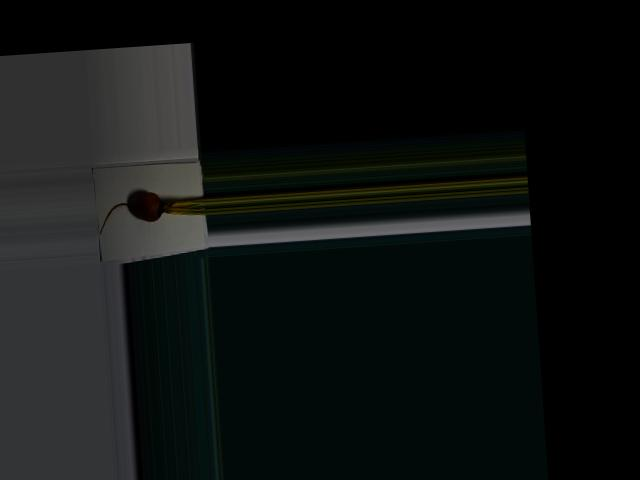beet: (97, 188, 206, 233)
